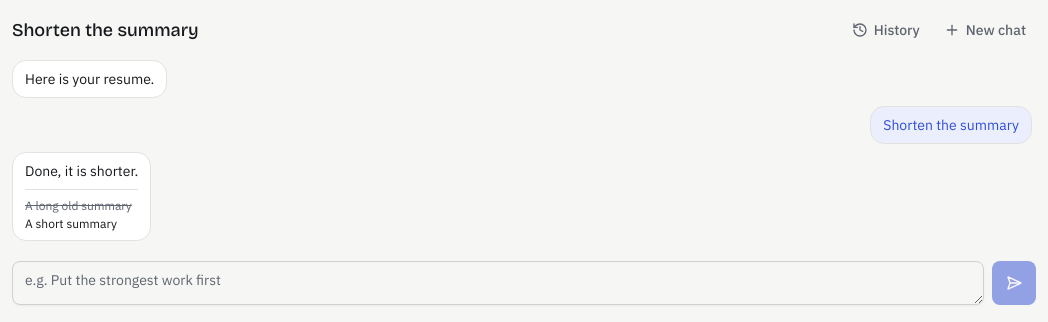
Test: switches threads from History and updates ?thread=
Check: the text "Done, it is shorter." is shown, box [25, 161, 138, 181]
Step 1. Press the mouse on the button "History" → (886, 30), box [842, 12, 930, 48]
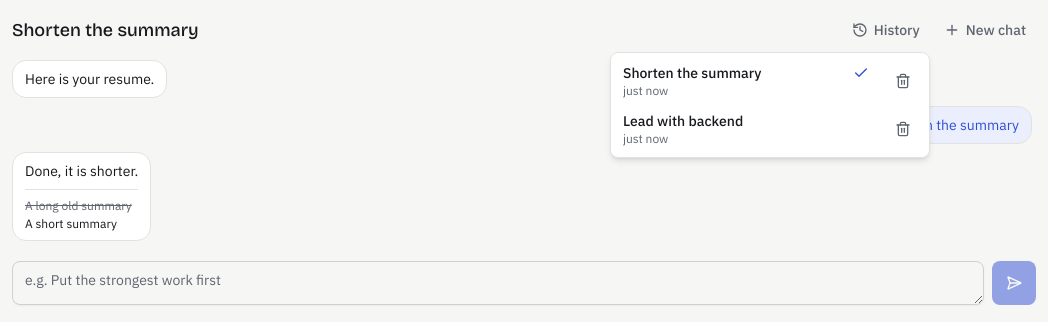
Step 2. Click the menu item "Lead with backend just now" → (683, 129), box [623, 112, 743, 146]
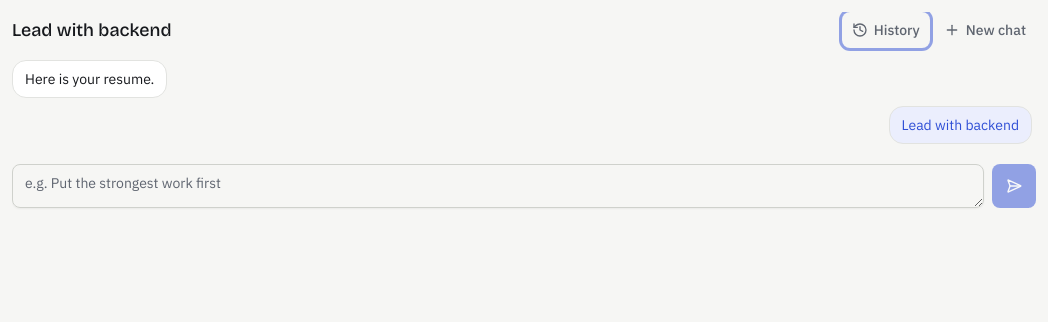
Check: the heading "Lead with backend" is shown, box [12, 19, 172, 41]
